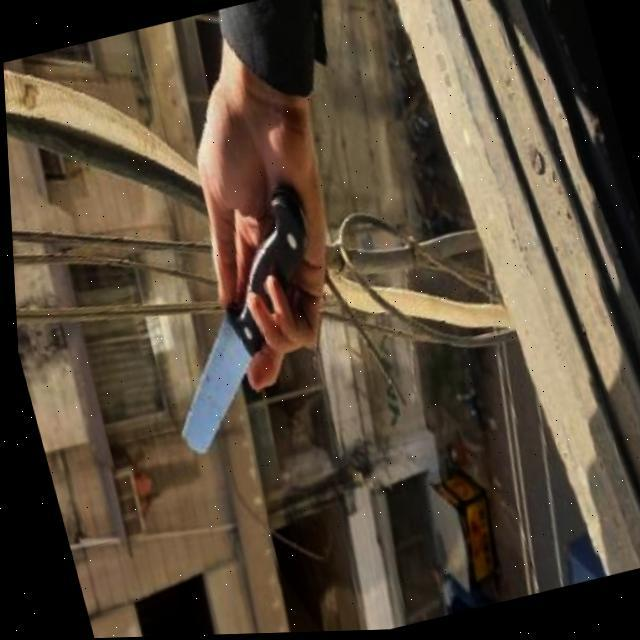knife: (120, 183, 353, 457)
